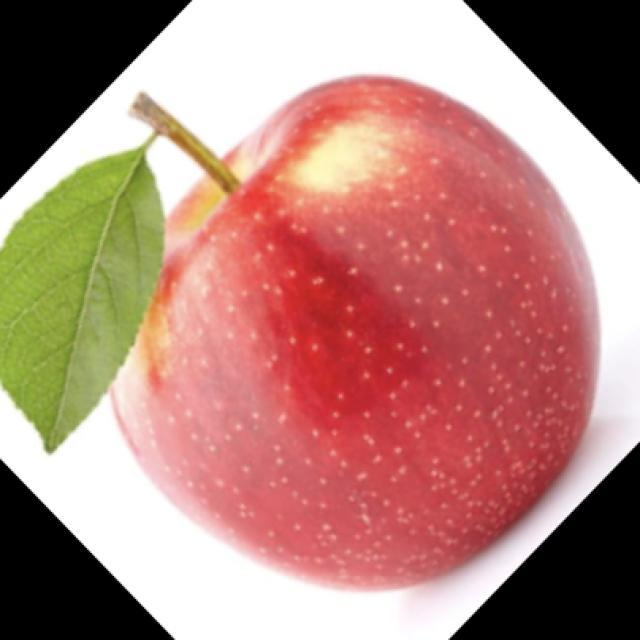Fresh Apple: (109, 57, 628, 580)
